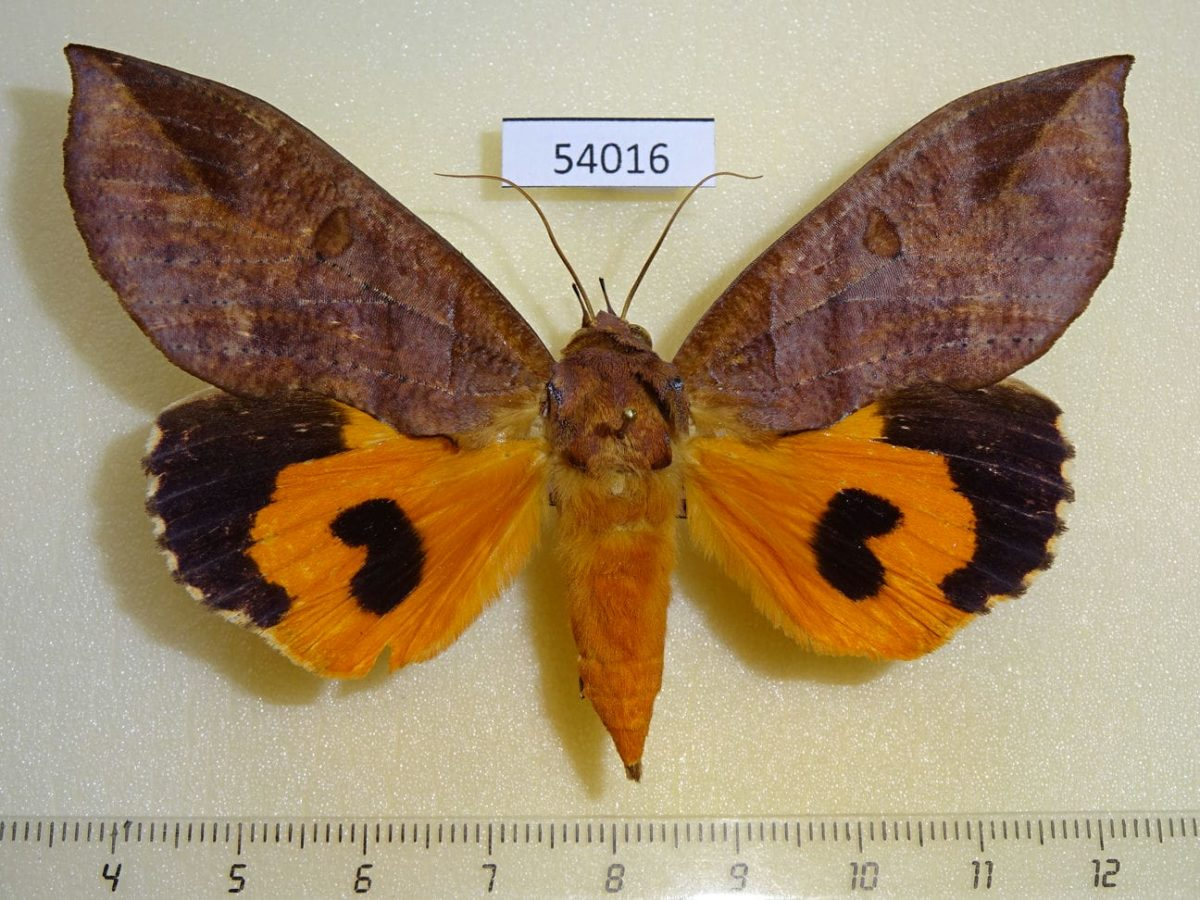Noctuidae: (54, 38, 1138, 784)
